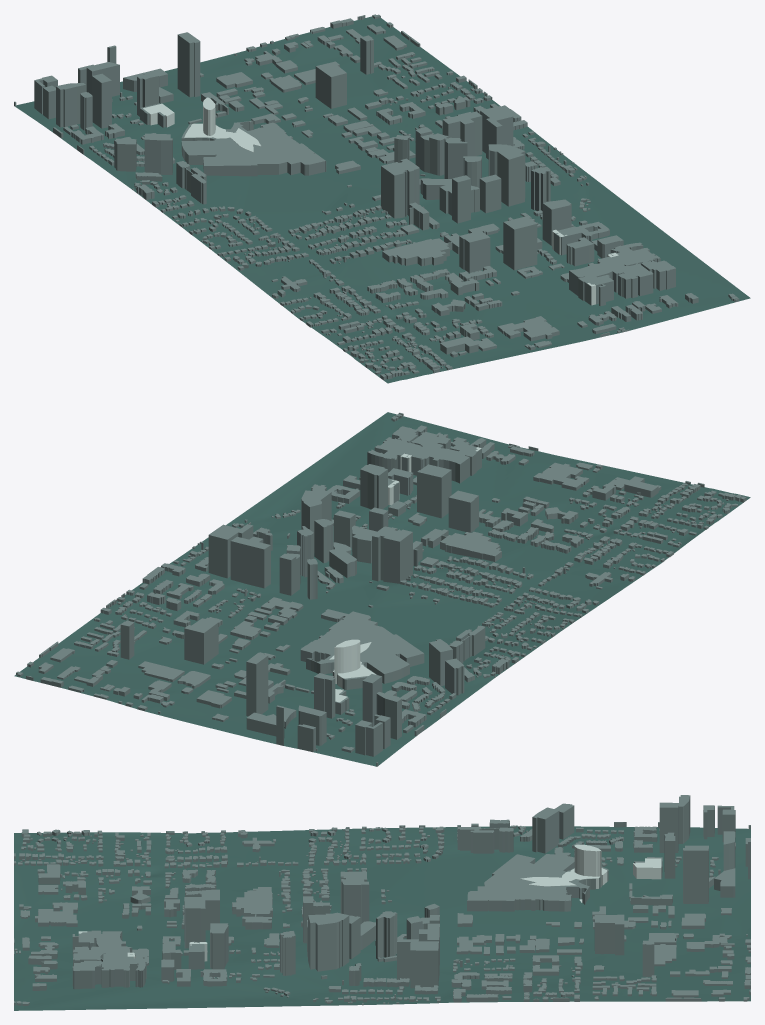
The model's file is sfu-surrey.glb.
The picture shows the model from 3 angles, top to bottom: view 1: azimuth 30°, elevation 25°; view 2: azimuth 150°, elevation 25°; view 3: azimuth 270°, elevation 25°; orthographic projection.
Parts seen in each view (by area): view 1: Estimated ground · building-base interpolation, Surrounding building 103104, Surrounding building 32073, Surrounding building 128999, Surrounding building 130275, Surrounding building 126506, Surrounding building 42994, Surrounding building 132066, Surrounding building 7426, Surrounding building 129507, Surrounding building 130274, Surrounding building 126504 (+16 smaller); view 2: Estimated ground · building-base interpolation, Surrounding building 103104, Surrounding building 32073, Surrounding building 128999, Surrounding building 129507, Surrounding building 42994, Surrounding building 126506, Surrounding building 130274, Surrounding building 7426, Surrounding building 132066, Surrounding building 2861, Surrounding building 126504 (+18 smaller); view 3: Estimated ground · building-base interpolation, Surrounding building 103104, Surrounding building 32073, Surrounding building 130275, Surrounding building 130274, Surrounding building 132066, Surrounding building 98288, Surrounding building 42994, Surrounding building 128999, Surrounding building 7426, Surrounding building 128943, Surrounding building 126506 (+29 smaller).
Boxes of the visible parts, <box> form: Estimated ground · building-base interpolation: <box>15,16,750,383</box>; Surrounding building 103104: <box>181,122,326,176</box>; Surrounding building 32073: <box>569,242,675,306</box>; Surrounding building 128999: <box>381,158,419,218</box>; Surrounding building 130275: <box>488,144,525,206</box>; Surrounding building 126506: <box>503,216,537,270</box>; Surrounding building 42994: <box>382,233,459,266</box>; Surrounding building 132066: <box>177,32,200,97</box>; Surrounding building 7426: <box>315,61,346,108</box>; Surrounding building 129507: <box>442,111,482,156</box>; Surrounding building 130274: <box>480,106,513,159</box>; Surrounding building 126504: <box>459,230,490,273</box>; Estimated ground · building-base interpolation: <box>14,412,750,766</box>; Surrounding building 103104: <box>300,611,424,683</box>; Surrounding building 32073: <box>367,426,481,483</box>; Surrounding building 128999: <box>372,526,412,583</box>; Surrounding building 129507: <box>230,536,270,588</box>; Surrounding building 42994: <box>421,528,501,561</box>; Surrounding building 126506: <box>417,464,451,518</box>; Surrounding building 130274: <box>208,524,253,578</box>; Surrounding building 7426: <box>184,618,218,664</box>; Surrounding building 132066: <box>246,652,268,716</box>; Surrounding building 2861: <box>360,464,387,509</box>; Surrounding building 126504: <box>448,490,478,532</box>; Estimated ground · building-base interpolation: <box>14,826,750,1010</box>; Surrounding building 103104: <box>467,854,574,911</box>; Surrounding building 32073: <box>72,930,146,989</box>; Surrounding building 130275: <box>308,912,349,971</box>; Surrounding building 130274: <box>397,939,438,988</box>; Surrounding building 132066: <box>683,845,708,903</box>; Surrounding building 98288: <box>457,827,513,853</box>; Surrounding building 42994: <box>232,887,272,929</box>; Surrounding building 128999: <box>340,871,369,923</box>; Surrounding building 7426: <box>594,914,624,955</box>; Surrounding building 128943: <box>532,807,559,853</box>; Surrounding building 126506: <box>184,897,205,948</box>.
Bounding box in the file's own units: 1150 × 189 × 2050.
